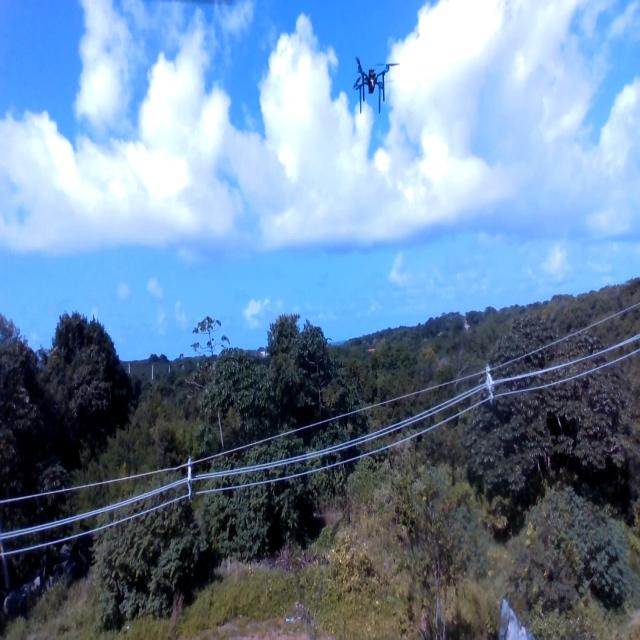-uav-: (341, 46, 404, 132)
